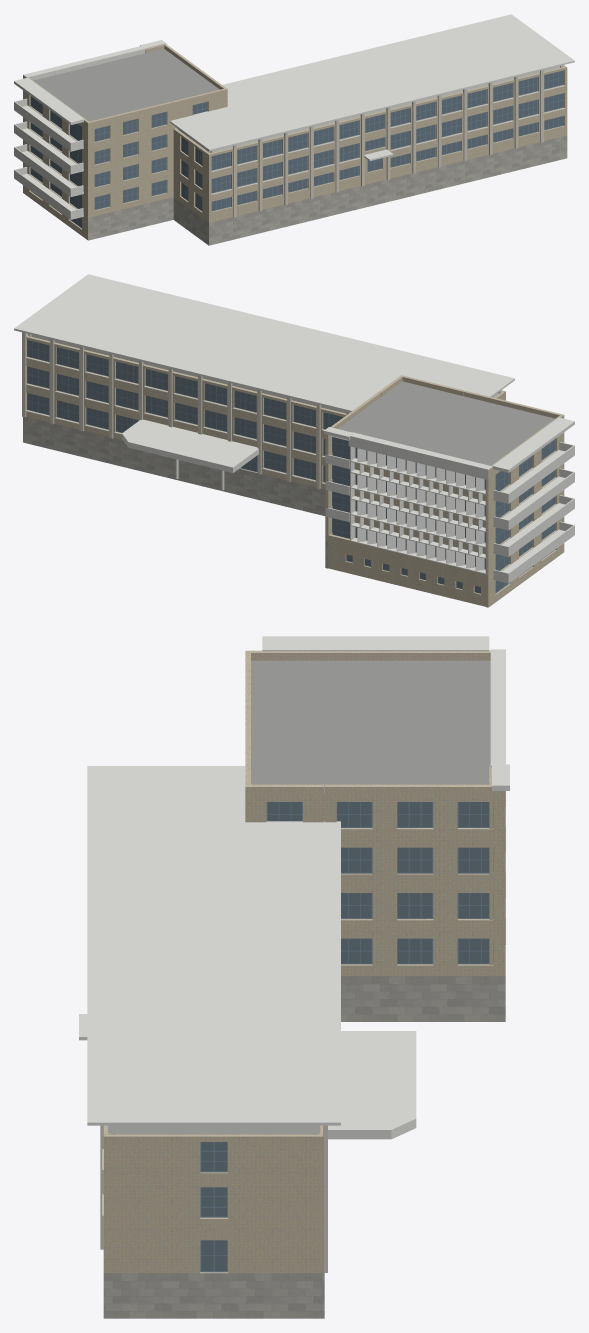
The picture shows the model from 3 angles, top to bottom: view 1: azimuth 30°, elevation 25°; view 2: azimuth 150°, elevation 25°; view 3: azimuth 270°, elevation 25°; orthographic projection. The views are drawn at different scales.
Parts seen in each view (by area): view 1: main__paint, main__tile, main__glass, main__stone, main__roof, main__frame, main__conc; view 2: main__paint, main__tile, main__glass, main__roof, main__stone, main__frame, main__conc; view 3: main__paint, main__tile, main__roof, main__stone, main__glass, main__frame, main__conc.
Boxes of the visible parts, bbox=[...] form: main__paint: bbox=[14, 14, 574, 219]; main__tile: bbox=[23, 44, 567, 240]; main__glass: bbox=[30, 70, 563, 227]; main__stone: bbox=[88, 135, 567, 245]; main__roof: bbox=[33, 49, 219, 151]; main__frame: bbox=[31, 71, 563, 228]; main__conc: bbox=[233, 70, 543, 217]; main__paint: bbox=[14, 274, 574, 583]; main__tile: bbox=[26, 333, 564, 607]; main__glass: bbox=[27, 340, 555, 593]; main__roof: bbox=[328, 381, 554, 465]; main__stone: bbox=[23, 417, 328, 568]; main__frame: bbox=[27, 340, 555, 593]; main__conc: bbox=[22, 332, 349, 489]; main__paint: bbox=[79, 636, 509, 1215]; main__tile: bbox=[103, 650, 505, 1273]; main__roof: bbox=[251, 660, 505, 794]; main__stone: bbox=[103, 976, 505, 1318]; main__glass: bbox=[201, 802, 489, 1270]; main__frame: bbox=[200, 802, 493, 1271]; main__conc: bbox=[100, 1125, 327, 1272].
Size of the model in its own units: 76.3 by 18.72 by 30.94.
Materials: 7 (2 with a texture image).
